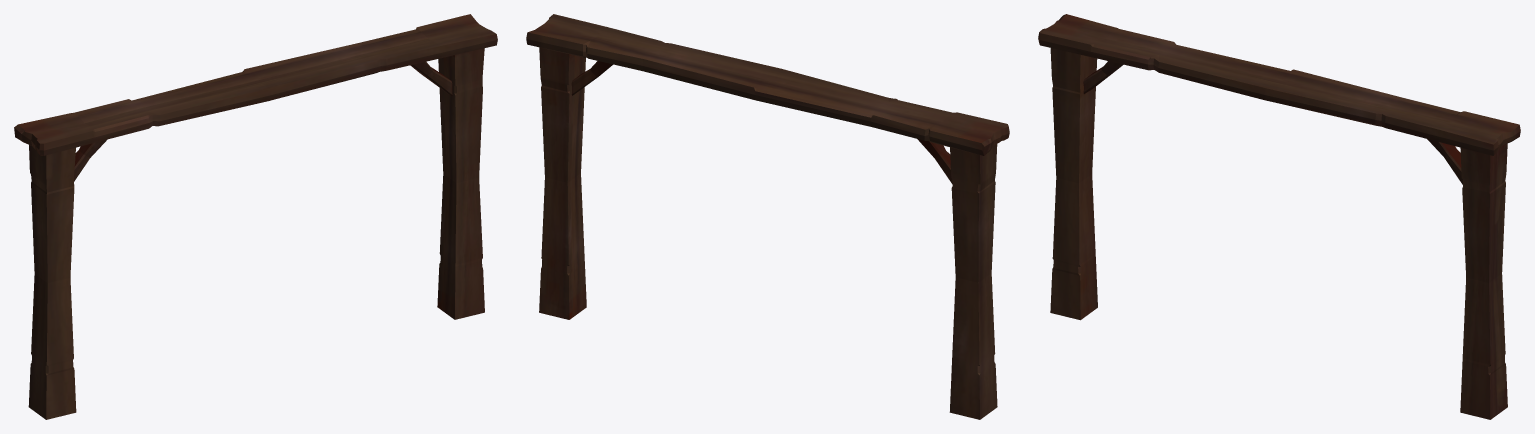
The model's file is Portal.fbx.
3 renders of one model, left to right at view 1: azimuth 30°, elevation 25°; view 2: azimuth 150°, elevation 25°; view 3: azimuth 330°, elevation 25°, orthographic.
Visible parts, largest first — view 1: Portal; view 2: Portal; view 3: Portal.
Part boxes in pixels (<box>): Portal: <box>14,14,497,419</box>; Portal: <box>526,14,1009,419</box>; Portal: <box>1038,14,1520,419</box>.
Bounding box in the file's own units: 445 × 262 × 46.2.
